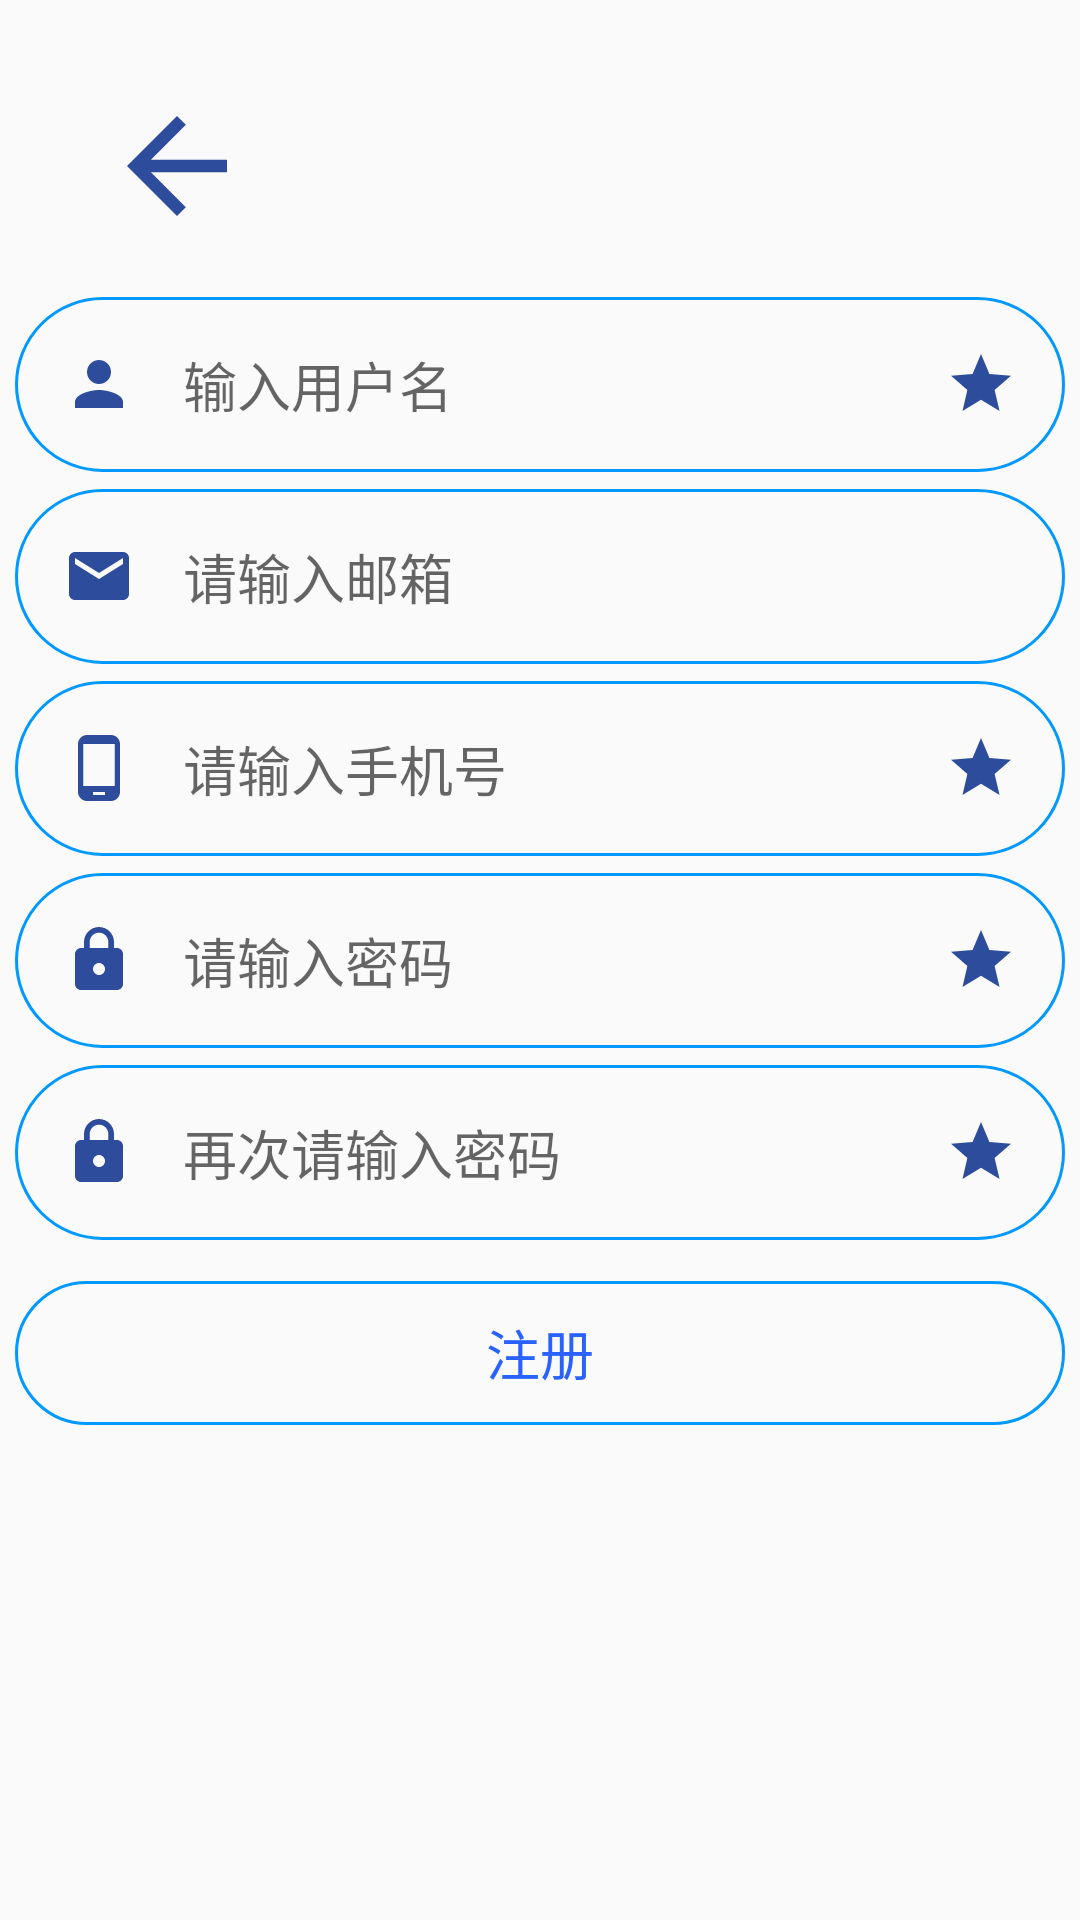

Icon click points for this 1080×1920 phone screenshot, format (x,y):
arrow back: (177,166)
